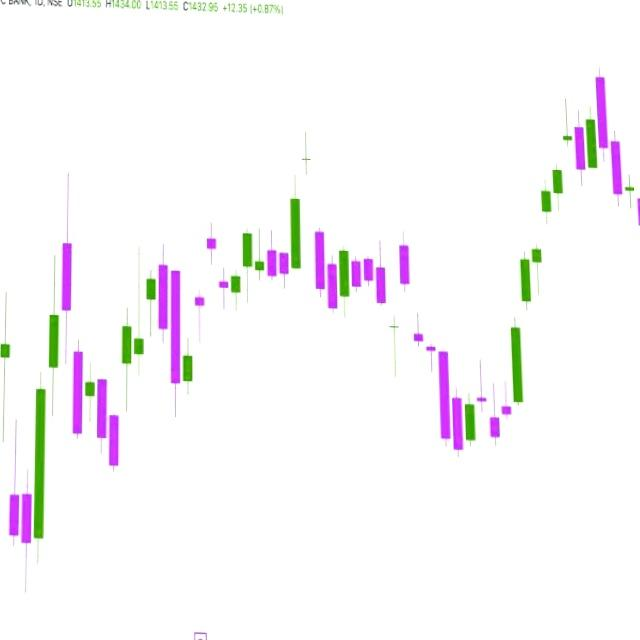Gap Down: (302, 156, 324, 288), (399, 244, 425, 342), (376, 268, 398, 328)
Gap Up: (512, 258, 530, 402), (290, 157, 310, 268), (391, 243, 410, 332), (195, 237, 214, 305), (533, 190, 550, 262), (554, 134, 570, 192)
